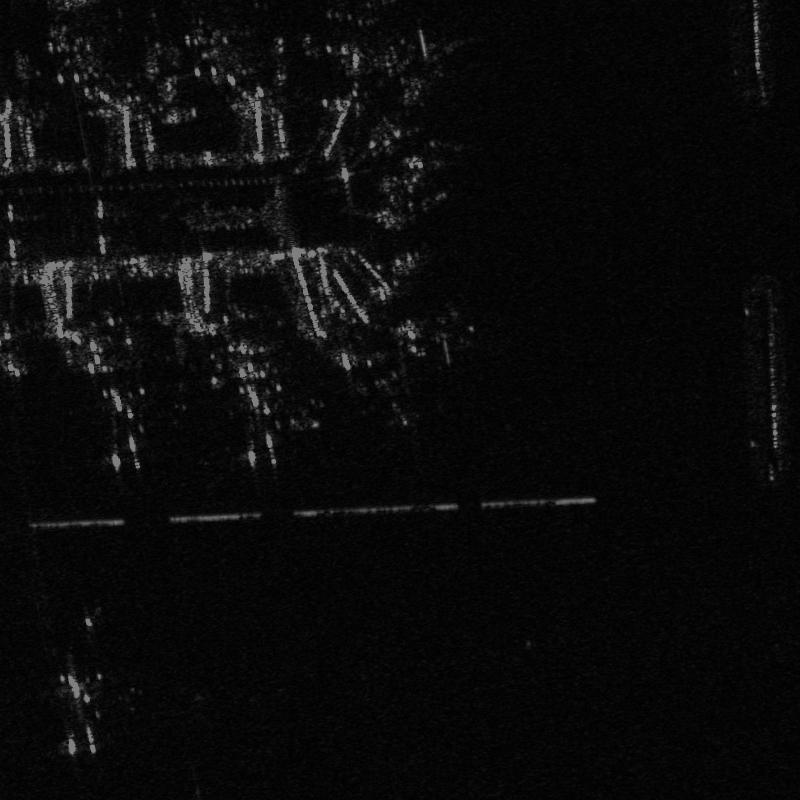A320/321: (214, 355, 311, 466)
Boeing737: (351, 348, 421, 434)
Boeing787: (78, 375, 159, 473)
other: (41, 671, 114, 758)
